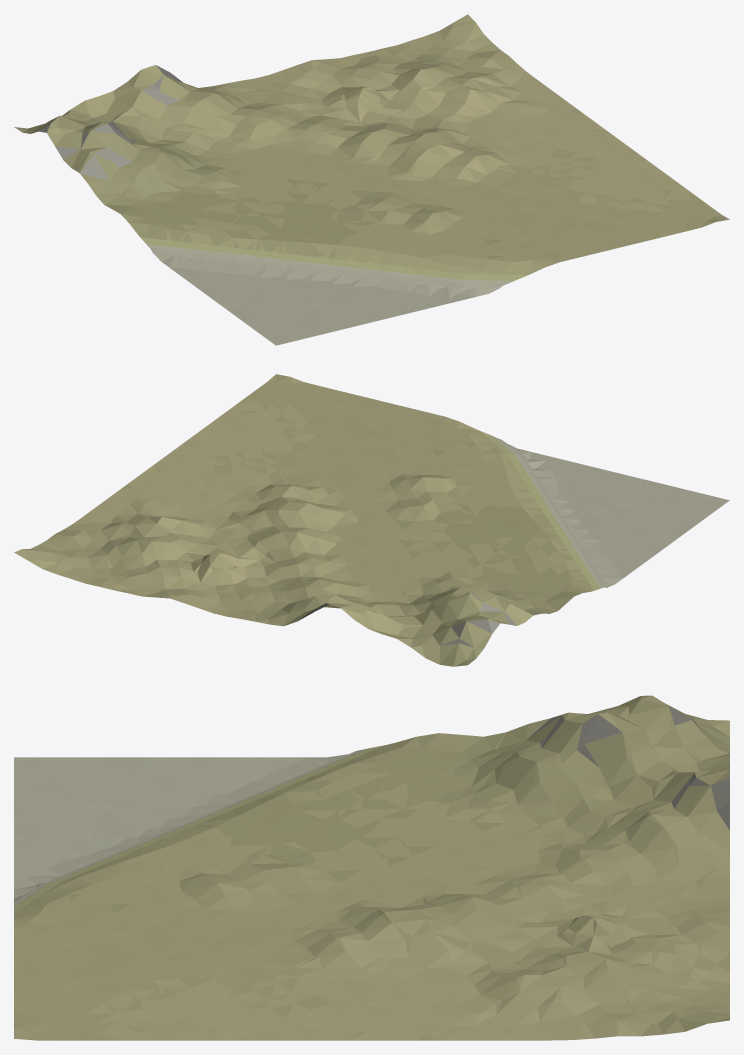
The model's file is Ground_-2_-2.glb.
The picture shows the model from 3 angles, top to bottom: view 1: azimuth 30°, elevation 25°; view 2: azimuth 150°, elevation 25°; view 3: azimuth 270°, elevation 25°; orthographic projection. The views are drawn at different scales.
Visible parts, largest first — view 1: Ground_-2_-2; view 2: Ground_-2_-2; view 3: Ground_-2_-2.
Boxes of the visible parts, left/top/right/bottom form: Ground_-2_-2: left=14, top=14, right=729, bottom=345; Ground_-2_-2: left=14, top=374, right=729, bottom=666; Ground_-2_-2: left=14, top=695, right=729, bottom=1040.
Bounding box in the file's own units: 768 × 88.01 × 768.
